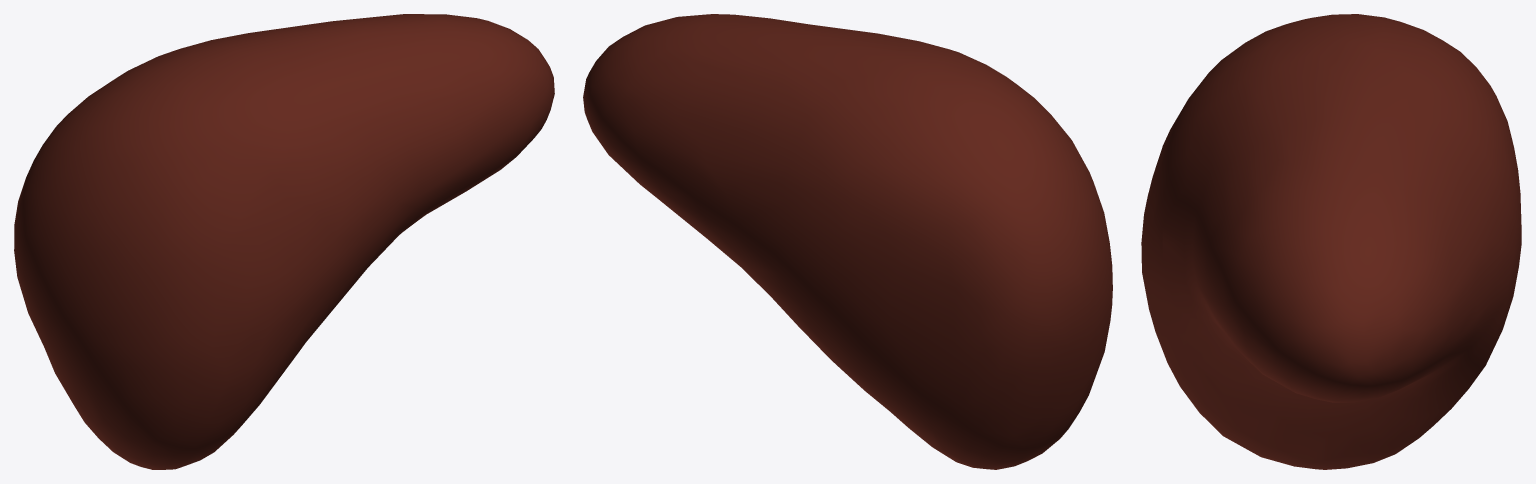
The model's file is Liver.glb.
3 renders of one model, left to right at view 1: azimuth 30°, elevation 25°; view 2: azimuth 150°, elevation 25°; view 3: azimuth 270°, elevation 25°, orthographic. The views are drawn at different scales.
Visible parts, largest first — view 1: Sphere; view 2: Sphere; view 3: Sphere.
Part boxes in pixels (x1=…): Sphere: x1=14, y1=14, x2=554, y2=469; Sphere: x1=583, y1=14, x2=1112, y2=469; Sphere: x1=1141, y1=14, x2=1521, y2=469.
Bounding box in the file's own units: 2.97 × 2.16 × 1.57.
